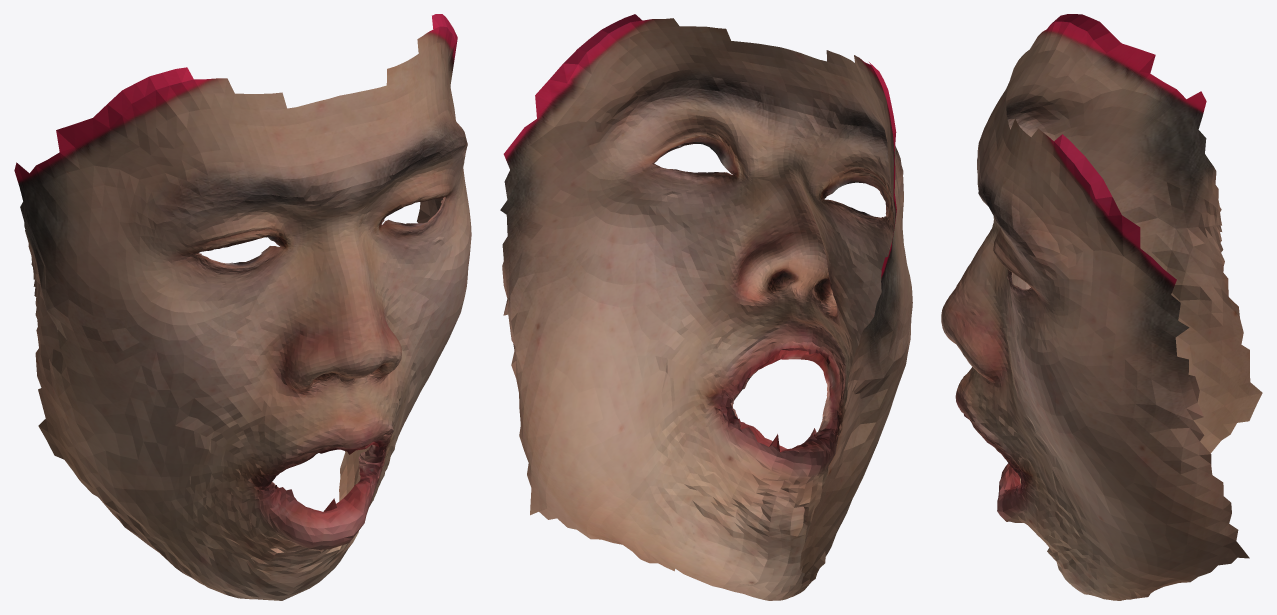
Rendered from 3_mouth_stretch.obj.
3 views of the same model, side by side, from view 1: azimuth 30°, elevation 25°; view 2: azimuth 150°, elevation 25°; view 3: azimuth 270°, elevation 25° (orthographic). The views are drawn at different scales.
Size of the model in its own units: 164 by 215 by 120.
Materials: 1 (1 with a texture image).
